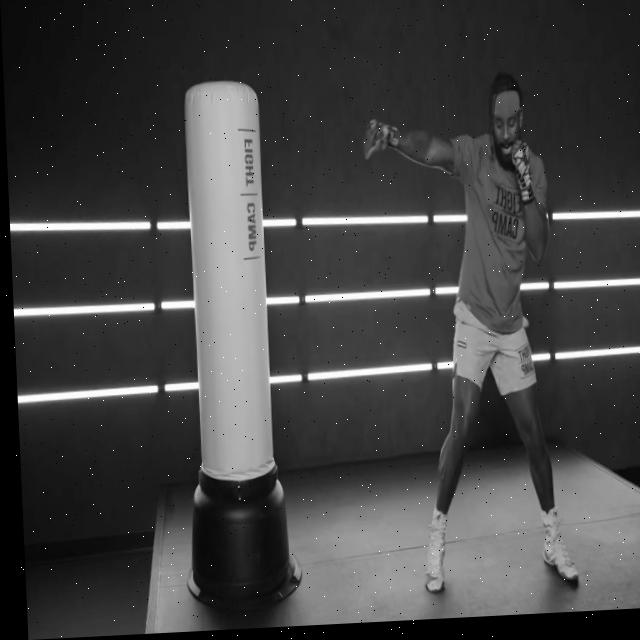Jab: (354, 111, 574, 608)
